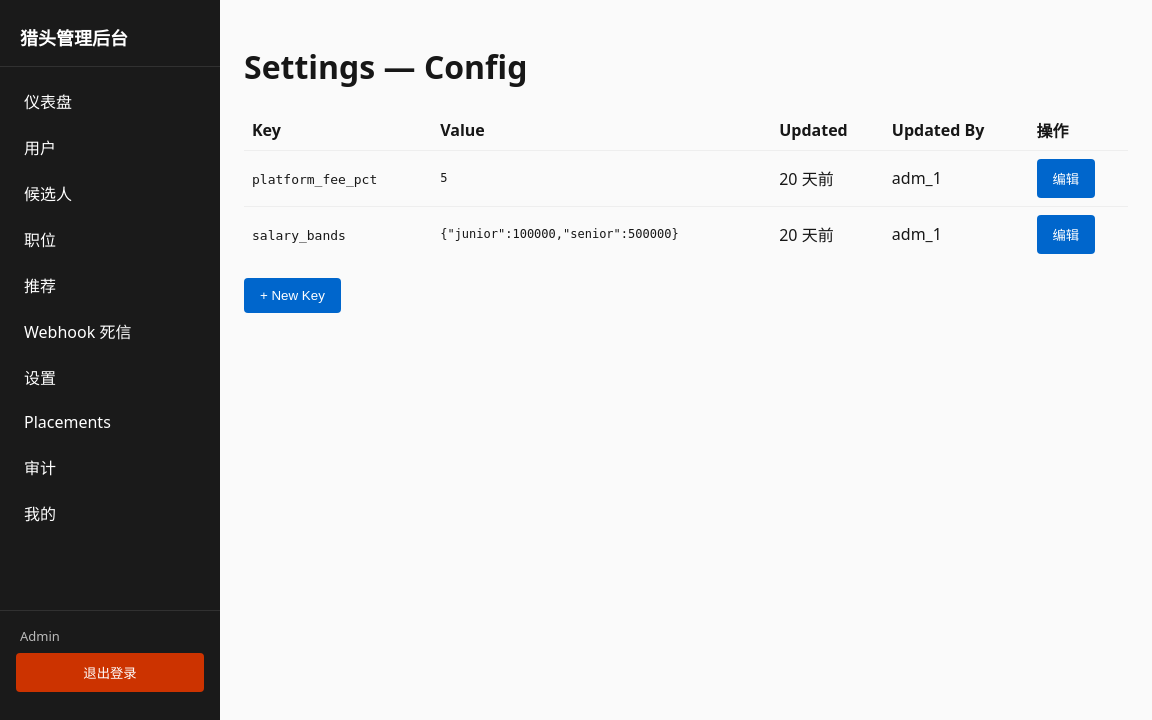
Test case: SettingsPage (Sub-E Config-only) › 5. updateConfig failure keeps modal open and surfaces error message
Click the button with test id "config-edit-platform_fee_pct" at coordinates (1066, 178), box [1036,159,1095,198]
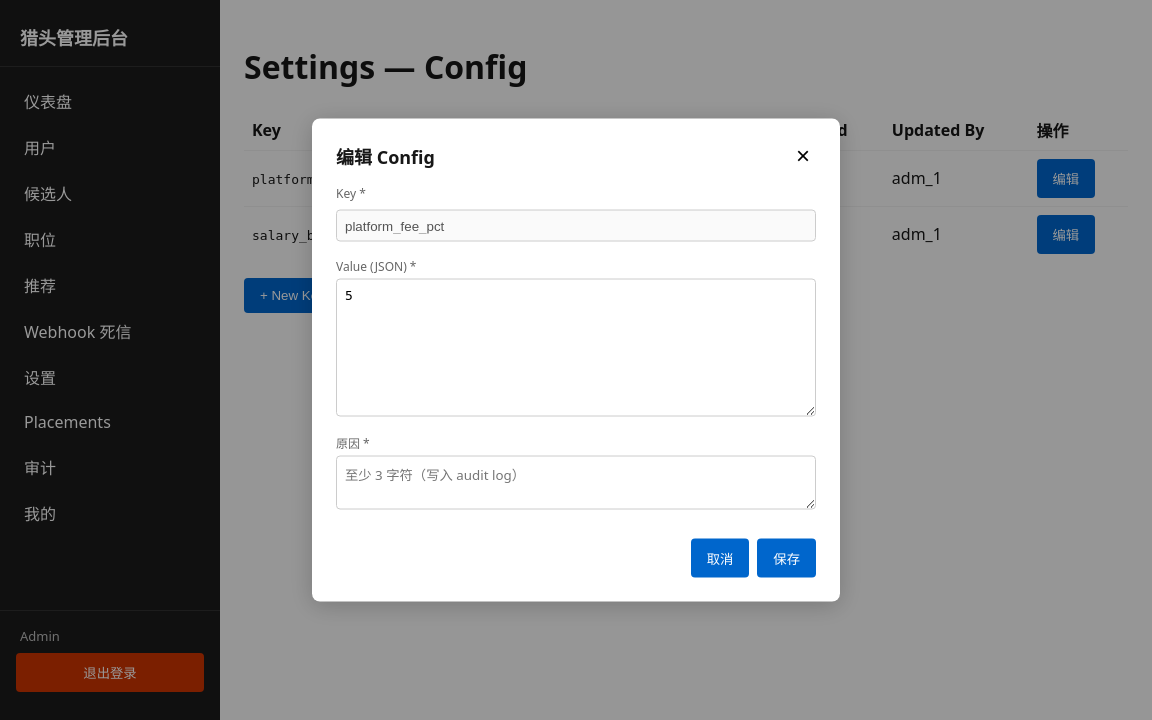
Replace the text in the text box with test id "config-value" with "9" at coordinates (576, 348), box [336,278,816,416]
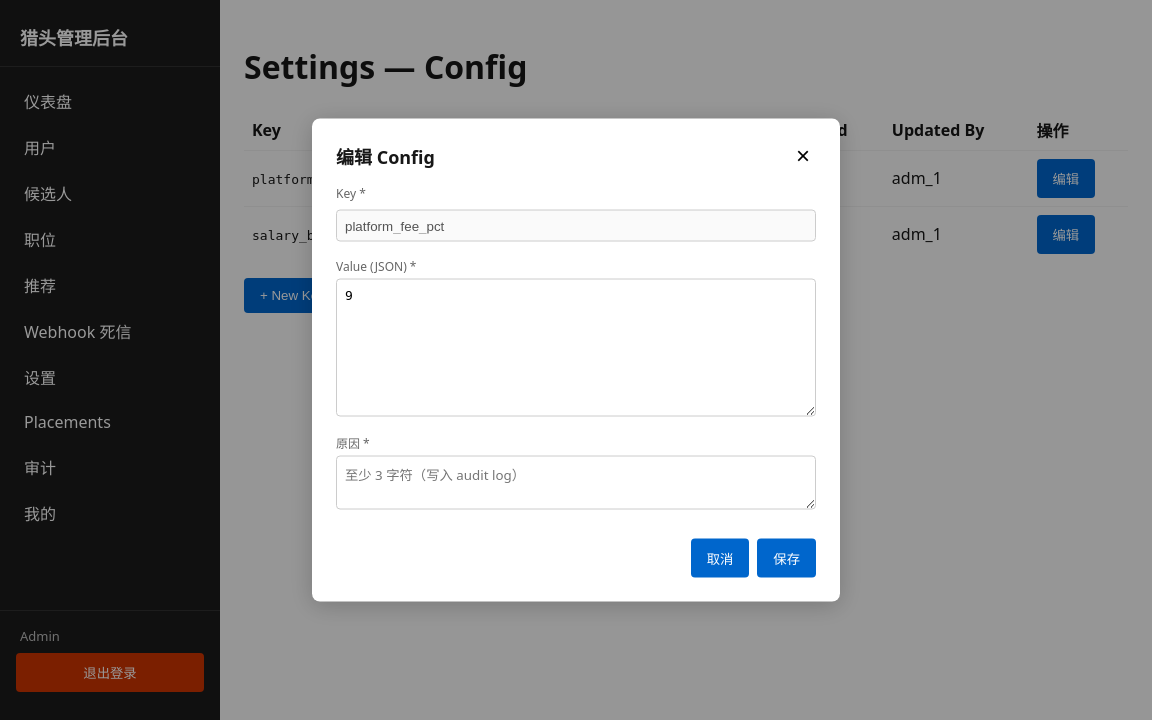
Type "oops" into the text box with test id "config-reason" at coordinates (576, 482), box [336,456,816,510]
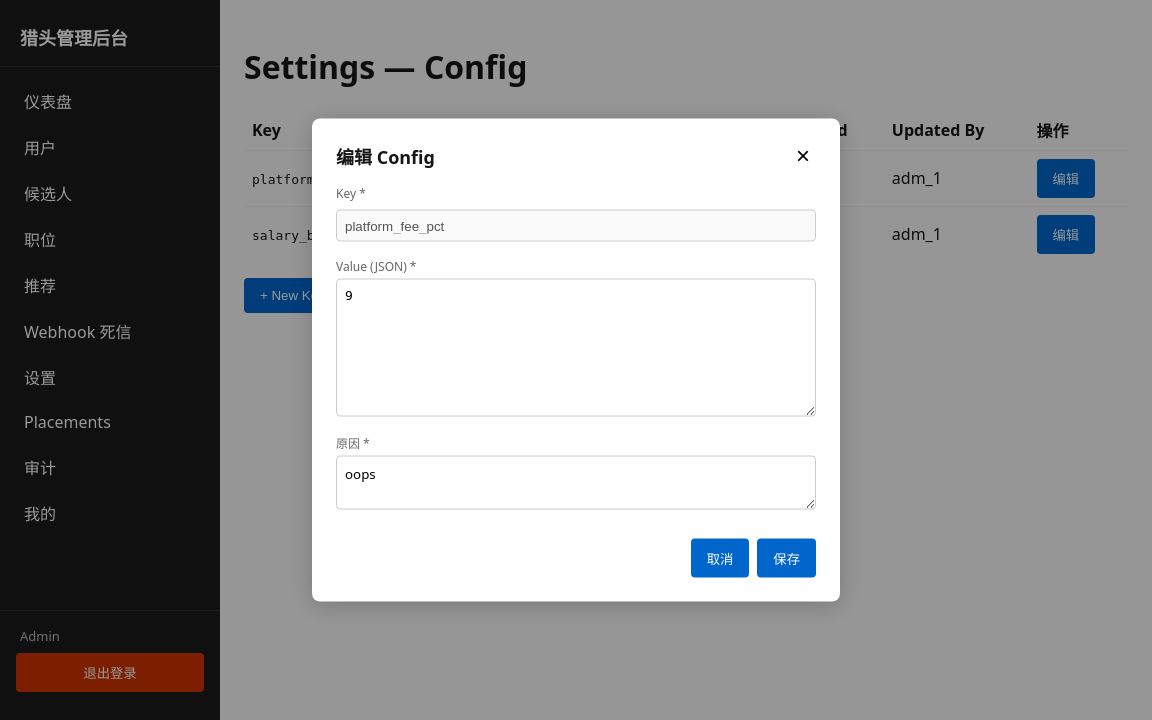
Click the button with test id "config-save" at coordinates (787, 558), box [757,538,816,578]
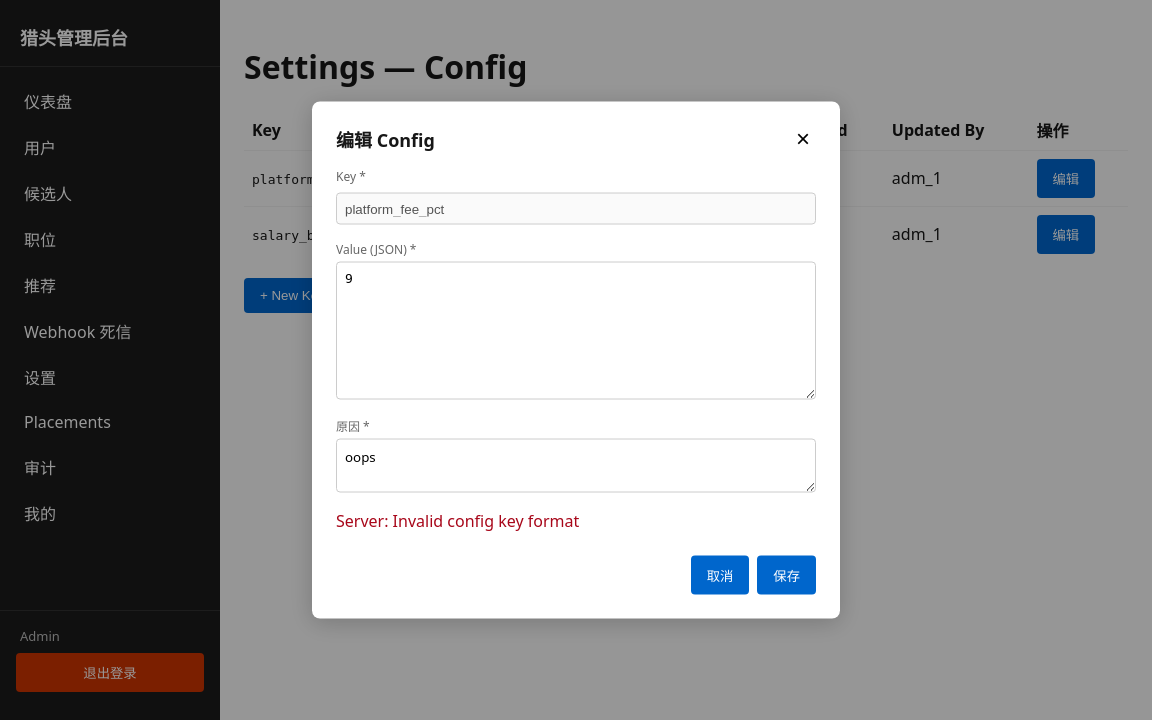
Expected: the button with test id "config-save" is shown, [757,556,816,594]
Expected: the text with test id "config-modal-error" reads "Server: Invalid config key format", [336,510,579,532]
